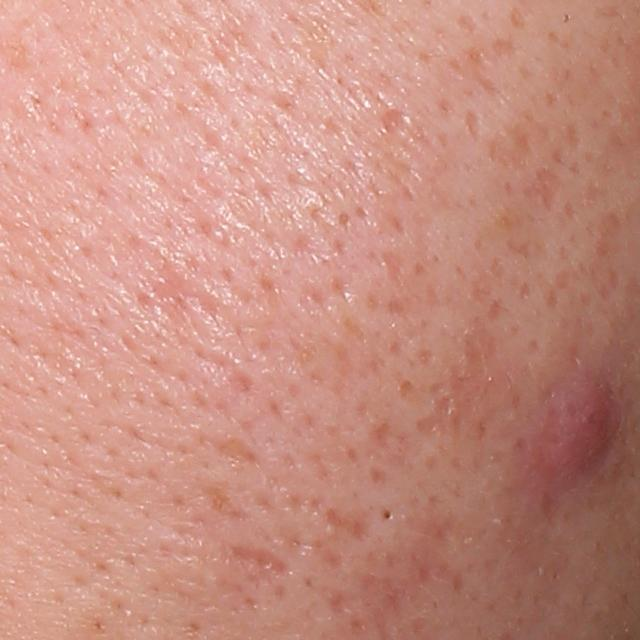atrophic_scar: (328, 508, 468, 633), (119, 250, 242, 375), (224, 542, 293, 586), (195, 431, 267, 468), (523, 169, 562, 213), (377, 105, 414, 141)
comedo: (378, 504, 398, 524)
papule: (535, 375, 627, 470)
